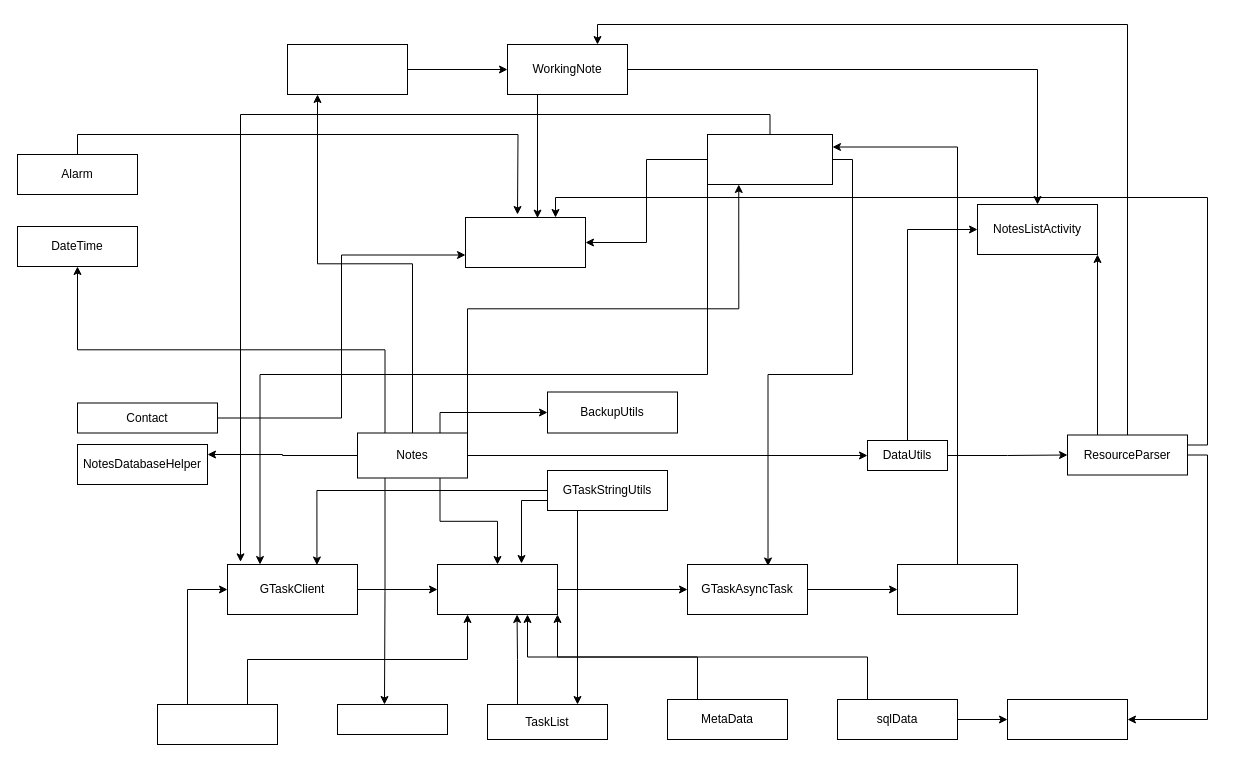
The diagram is 1233 pixels wide and 762 high, and some of its shapes have lost their labels. The shapes that lost their labels are listed below. From the top down, each one's centre as x and y in pixels, then its label:
At point 347,69: "Note".
At point 769,159: "NotesPreferenceActivity".
At point 525,242: "NoteEditActivity".
At point 497,589: "GTasjManager".
At point 957,589: "GTaskSyncService".
At point 217,724: "Node".
At point 392,719: "Task".
At point 1067,719: "sqlNote".
